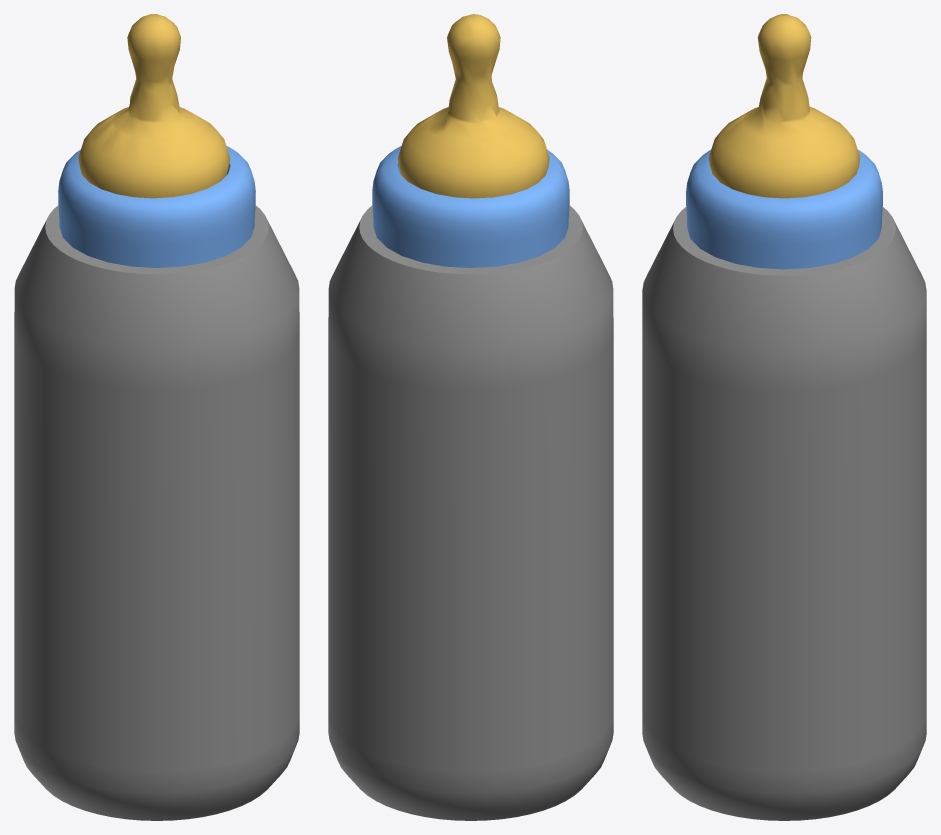
The model's file is Feeding bottle.FBX.
3 renders of one model, left to right at view 1: azimuth 30°, elevation 25°; view 2: azimuth 150°, elevation 25°; view 3: azimuth 270°, elevation 25°, orthographic.
Visible parts, largest first — view 1: feeding bottle; view 2: feeding bottle; view 3: feeding bottle.
Part boxes in pixels (box(x1,y1,x2,y2)): feeding bottle: box(14, 14, 299, 820); feeding bottle: box(328, 14, 613, 820); feeding bottle: box(642, 14, 926, 820).
Bounding box in the file's own units: 7.32 × 21.37 × 7.32.
Materials: 3 (1 with a texture image).
